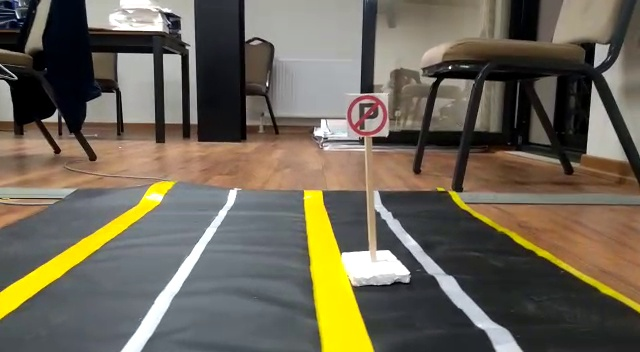park_yapilmaz: (344, 90, 394, 139)
